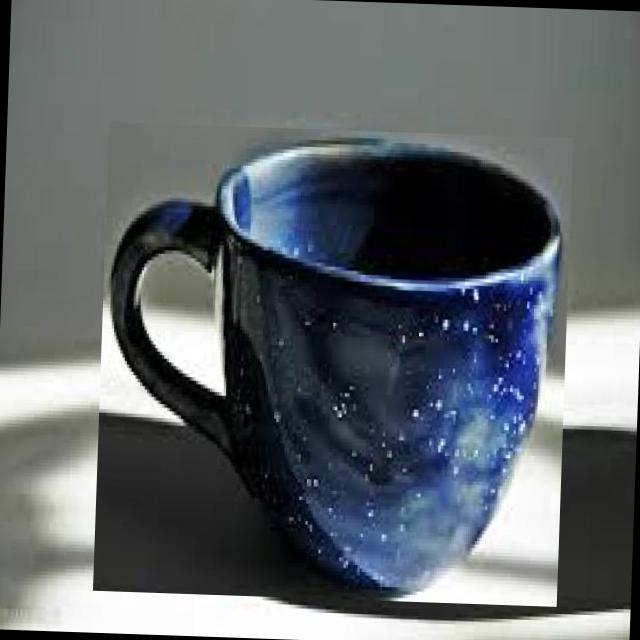Coffee Mug: (98, 127, 564, 602)
